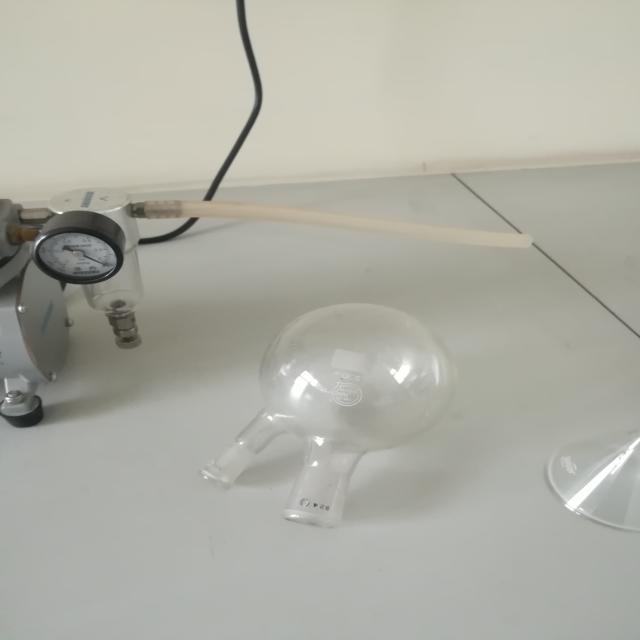Round_Bottom_Flask_Borosilicate_Glass_2_Neck: (188, 283, 480, 551)
